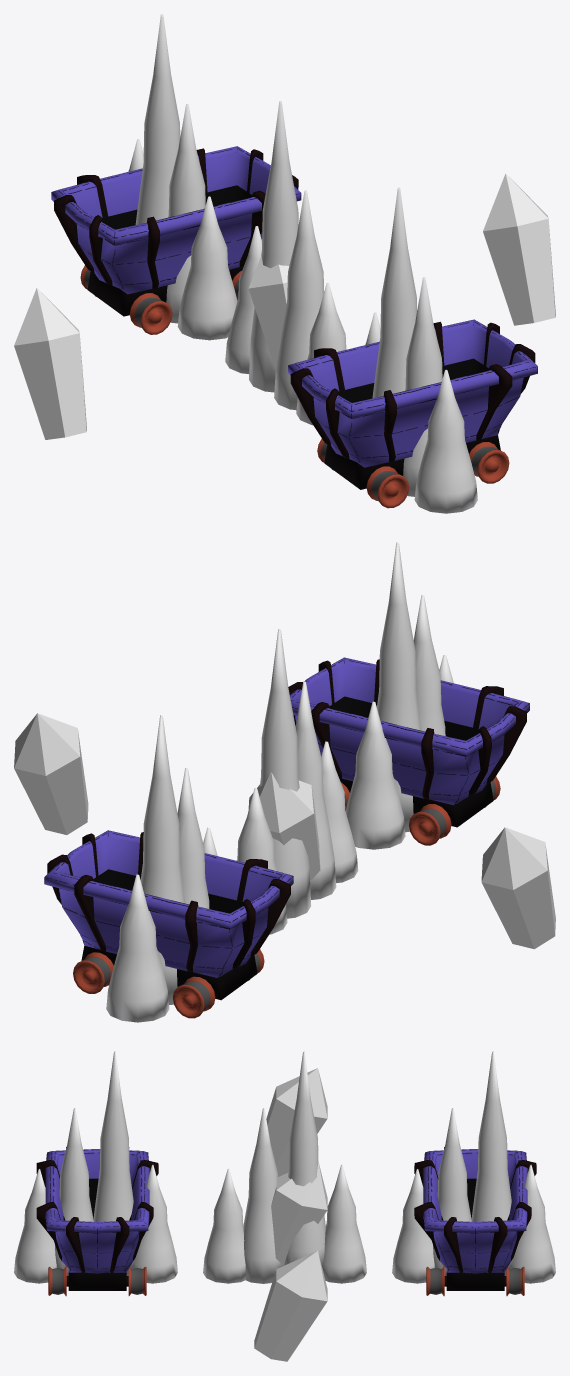
Rendered from dosvagonetas.fbx.
The picture shows the model from 3 angles, top to bottom: view 1: azimuth 30°, elevation 25°; view 2: azimuth 150°, elevation 25°; view 3: azimuth 270°, elevation 25°; orthographic projection. The views are drawn at different scales.
Visible parts, largest first — view 1: ESTALACTITA_CENTRO, MineCart.012, ESTALACTITA_DERECH, ESTALACTITA_IZQ, MineCart.007, Cristal.006, Cristal.008, MineCart.013, MineCart.008, MineCart.011, Cristal.007, MineCart.006 (+4 smaller); view 2: MineCart.007, ESTALACTITA_IZQ, ESTALACTITA_CENTRO, ESTALACTITA_DERECH, MineCart.012, Cristal.006, Cristal.008, MineCart.008, MineCart.013, Cristal.007, MineCart.006, MineCart.011 (+4 smaller); view 3: ESTALACTITA_CENTRO, ESTALACTITA_IZQ, ESTALACTITA_DERECH, MineCart.012, MineCart.007, Cristal.008, Cristal.007, Cristal.006, MineCart.008, MineCart.013, MineCart.005, MineCart.010 (+2 smaller).
Boxes of the visible parts, x1,y1,x2,y2 form: ESTALACTITA_CENTRO: [225, 101, 346, 425]; MineCart.012: [288, 319, 537, 467]; ESTALACTITA_DERECH: [365, 187, 477, 513]; ESTALACTITA_IZQ: [128, 14, 237, 340]; MineCart.007: [51, 146, 301, 294]; Cristal.006: [14, 288, 86, 439]; Cristal.008: [483, 173, 555, 325]; MineCart.013: [290, 321, 535, 461]; MineCart.008: [54, 148, 298, 288]; MineCart.011: [317, 438, 509, 508]; Cristal.007: [248, 256, 289, 370]; MineCart.006: [80, 265, 241, 334]; MineCart.007: [44, 830, 293, 977]; ESTALACTITA_IZQ: [106, 715, 217, 1022]; ESTALACTITA_CENTRO: [237, 629, 358, 934]; ESTALACTITA_DERECH: [345, 542, 453, 849]; MineCart.012: [290, 657, 529, 805]; Cristal.006: [481, 827, 555, 949]; Cristal.008: [14, 713, 88, 834]; MineCart.008: [47, 832, 290, 972]; MineCart.013: [288, 659, 526, 799]; Cristal.007: [248, 772, 320, 881]; MineCart.006: [73, 949, 264, 1018]; MineCart.011: [341, 776, 500, 845]; ESTALACTITA_CENTRO: [203, 1051, 366, 1283]; ESTALACTITA_IZQ: [392, 1051, 555, 1283]; ESTALACTITA_DERECH: [14, 1051, 177, 1283]; MineCart.012: [45, 1149, 149, 1273]; MineCart.007: [423, 1149, 527, 1273]; Cristal.008: [254, 1250, 327, 1361]; Cristal.007: [271, 1161, 327, 1265]; Cristal.006: [266, 1068, 327, 1176]; MineCart.008: [414, 1147, 536, 1272]; MineCart.013: [36, 1147, 158, 1272]; MineCart.005: [444, 1272, 506, 1290]; MineCart.010: [66, 1272, 128, 1290].
Size of the model in its own units: 911 by 455 by 1003.
